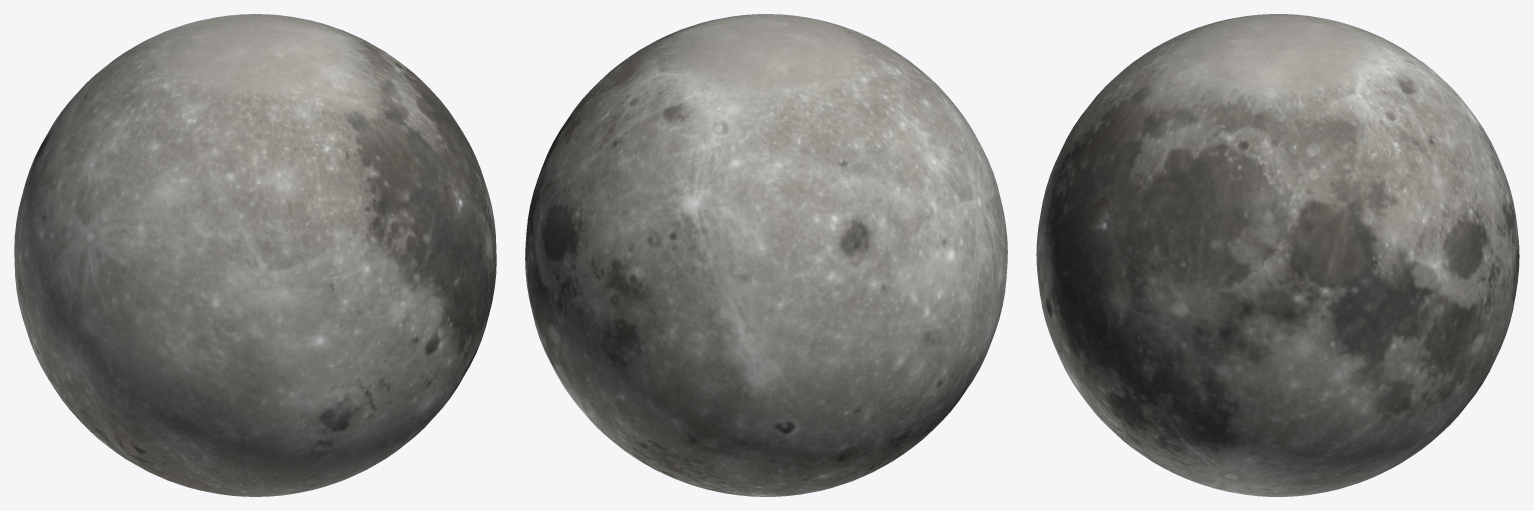
File: moon_planet.fbx
3 renders of one model, left to right at view 1: azimuth 30°, elevation 25°; view 2: azimuth 150°, elevation 25°; view 3: azimuth 270°, elevation 25°, orthographic.
Visible parts, largest first — view 1: moon; view 2: moon; view 3: moon.
Part boxes in pixels (x1,y1,x2,y2): moon: (14, 14, 496, 496); moon: (525, 14, 1007, 496); moon: (1036, 14, 1519, 496).
Bounding box in the file's own units: 2144 × 2147 × 2148.
Materials: 1 (1 with a texture image).
